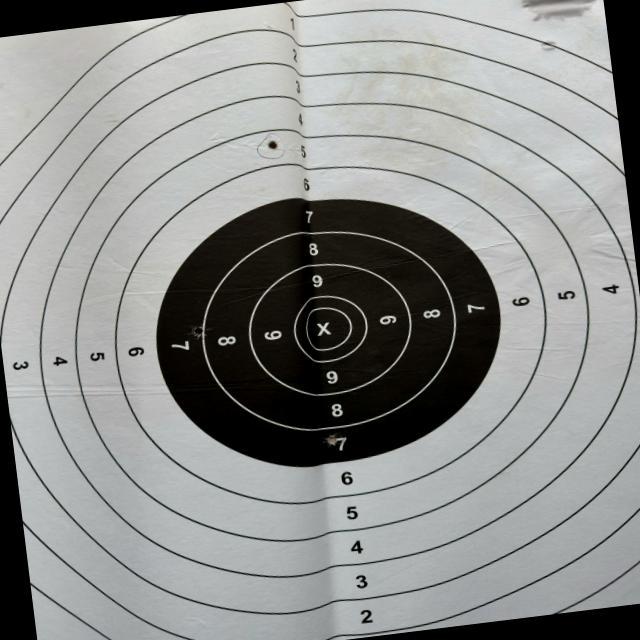bullet: (324, 433, 342, 446), (268, 140, 277, 148), (194, 327, 202, 334)
